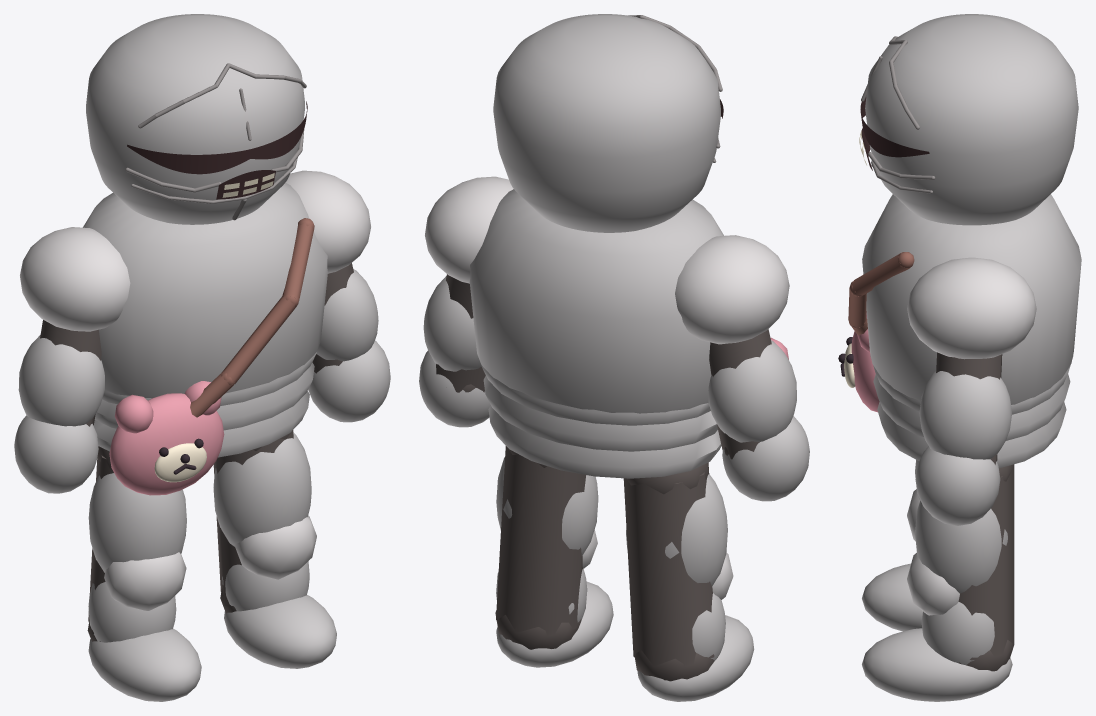
File: npc_kkami.glb
The picture shows the model from 3 angles, left to right: view 1: azimuth 30°, elevation 25°; view 2: azimuth 150°, elevation 25°; view 3: azimuth 270°, elevation 25°; orthographic projection. The views are drawn at different scales.
Parts seen in each view (by area): view 1: npc_kkami__body, npc_kkami__head, npc_kkami__arm_R, npc_kkami__leg_L, npc_kkami__leg_R, npc_kkami__arm_L; view 2: npc_kkami__body, npc_kkami__head, npc_kkami__leg_R, npc_kkami__arm_R, npc_kkami__leg_L, npc_kkami__arm_L; view 3: npc_kkami__head, npc_kkami__body, npc_kkami__arm_L, npc_kkami__leg_L, npc_kkami__leg_R.
Boxes of the visible parts, box(x1,y1,x2,y2) form: npc_kkami__body: box(83, 183, 327, 495); npc_kkami__head: box(86, 14, 307, 224); npc_kkami__arm_R: box(14, 227, 130, 493); npc_kkami__leg_L: box(213, 430, 336, 668); npc_kkami__leg_R: box(87, 446, 201, 701); npc_kkami__arm_L: box(285, 170, 390, 422); npc_kkami__body: box(469, 189, 788, 478); npc_kkami__head: box(493, 14, 723, 232); npc_kkami__leg_R: box(623, 462, 754, 701); npc_kkami__arm_R: box(675, 235, 809, 501); npc_kkami__leg_L: box(495, 446, 613, 667); npc_kkami__arm_L: box(419, 176, 513, 427); npc_kkami__head: box(859, 14, 1078, 225); npc_kkami__body: box(838, 194, 1081, 468); npc_kkami__arm_L: box(907, 257, 1036, 525); npc_kkami__leg_L: box(862, 464, 1014, 701); npc_kkami__leg_R: box(862, 460, 1014, 631).
Bounding box in the file's own units: 0.756 × 1.25 × 0.4354.
